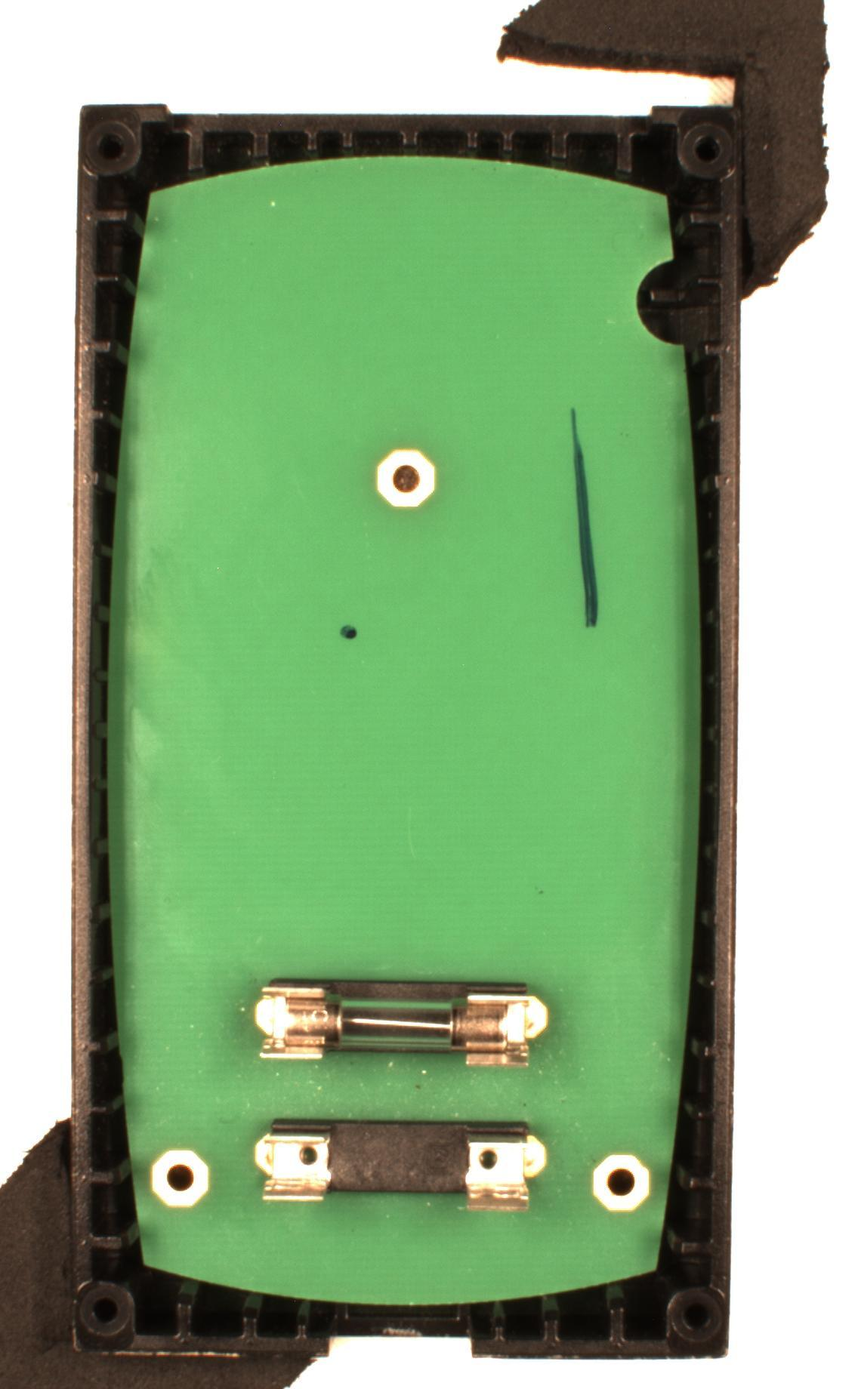Linijsko Ostecene: (561, 405, 604, 628)
Nepostojanje osiguraca: (253, 1113, 549, 1219)
Tockasto Ostecenje: (337, 620, 361, 645)
